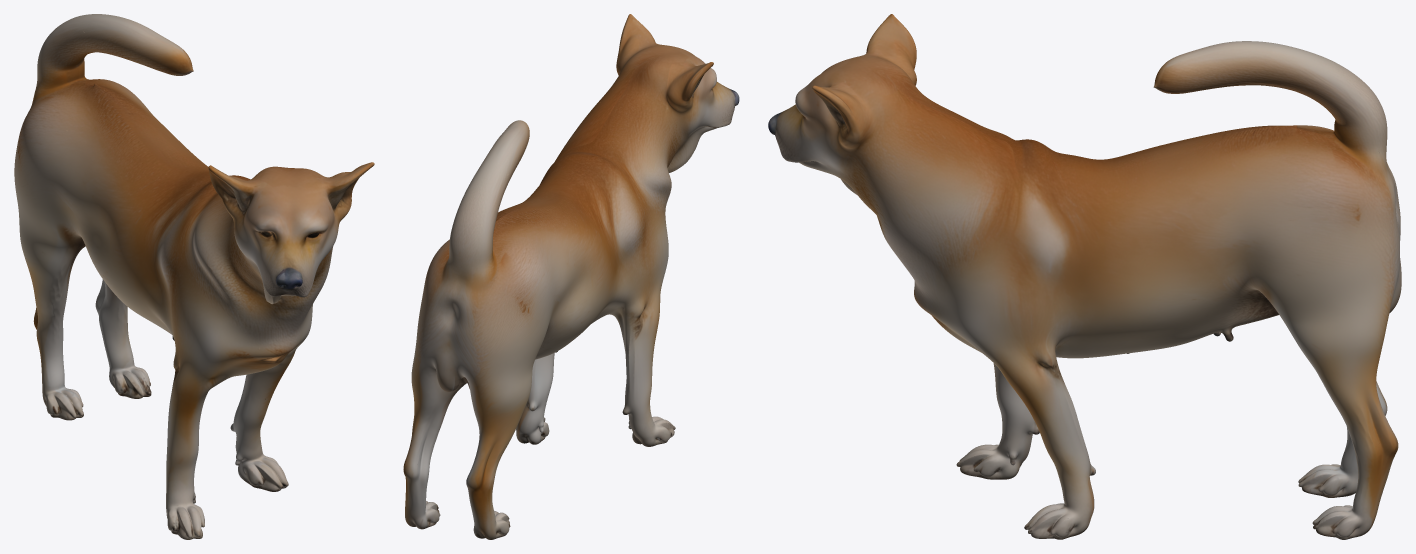
File: dog.glb
3 renders of one model, left to right at view 1: azimuth 30°, elevation 25°; view 2: azimuth 150°, elevation 25°; view 3: azimuth 270°, elevation 25°, orthographic. The views are drawn at different scales.
Parts seen in each view (by area): view 1: texture_pbr_v128; view 2: texture_pbr_v128; view 3: texture_pbr_v128.
Boxes of the visible parts, x1,y1,x2,y2 form: texture_pbr_v128: (14,14,374,539); texture_pbr_v128: (403,14,739,539); texture_pbr_v128: (768,14,1401,539).
Size of the model in its own units: 0.2955 by 0.8003 by 0.9901.
1 material, 1 textured.
